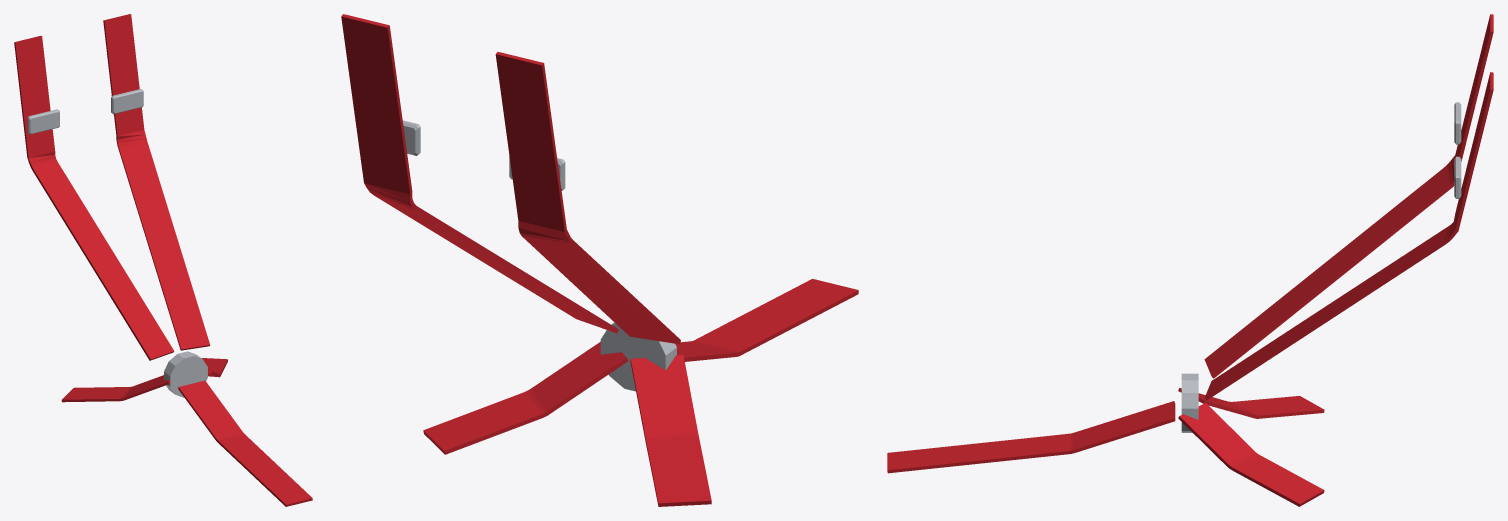
The model's file is vortex_r.glb.
3 views of the same model, side by side, from view 1: azimuth 30°, elevation 25°; view 2: azimuth 150°, elevation 25°; view 3: azimuth 270°, elevation 25° (orthographic). The views are drawn at different scales.
Parts seen in each view (by area): view 1: model; view 2: model; view 3: model.
Part boxes in pixels (x1=…): model: x1=14, y1=14, x2=312, y2=506; model: x1=341, y1=14, x2=858, y2=506; model: x1=887, y1=14, x2=1493, y2=506.
Size of the model in its own units: 0.2989 by 0.5315 by 0.7071.
1 material, 1 textured.
